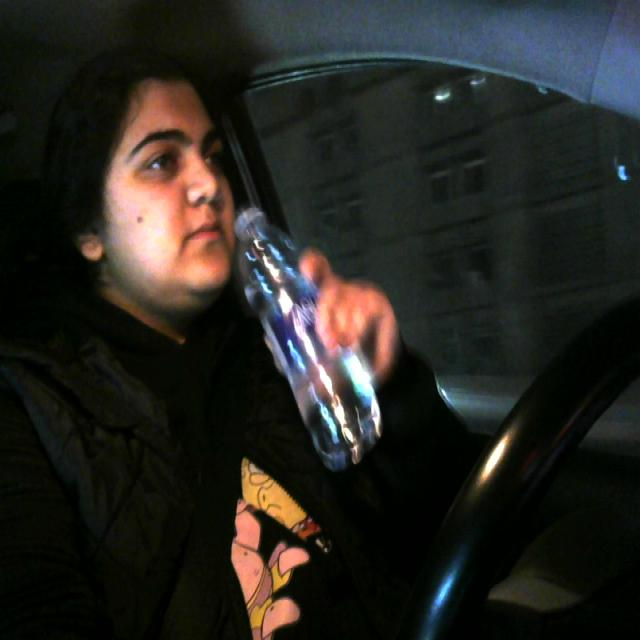drinking: (234, 198, 390, 464)
